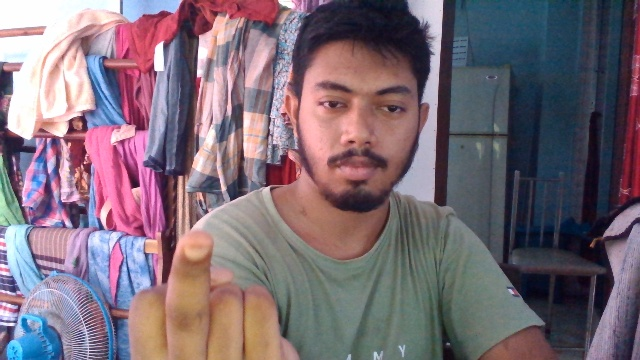fucku: (126, 227, 301, 360)
